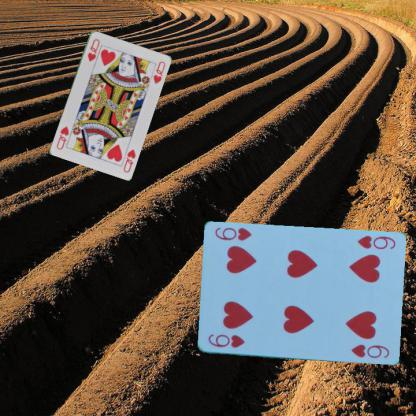6h: (354, 233, 396, 251), (205, 332, 246, 349)
Qh: (121, 146, 137, 174), (85, 36, 100, 63)
